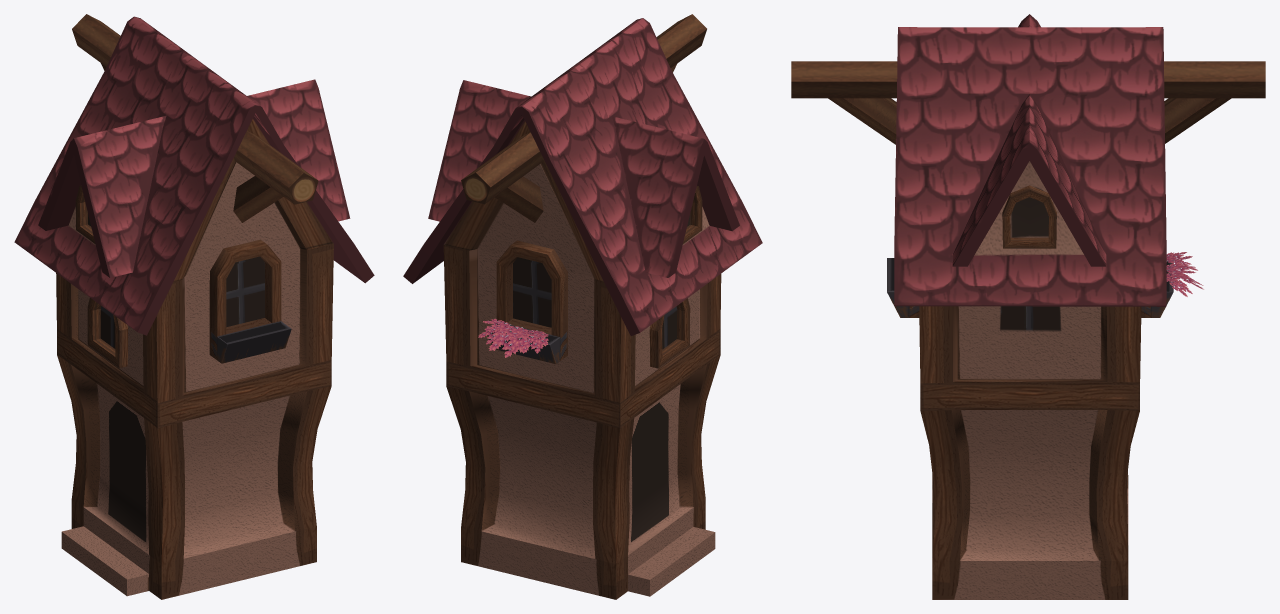
Rendered from House8.obj.
3 renders of one model, left to right at view 1: azimuth 30°, elevation 25°; view 2: azimuth 150°, elevation 25°; view 3: azimuth 270°, elevation 25°, orthographic. The views are drawn at different scales.
Visible parts, largest first — view 1: HouseMesh8; view 2: HouseMesh8; view 3: HouseMesh8.
Part boxes in pixels (x1=…): HouseMesh8: x1=14, y1=14, x2=374, y2=599; HouseMesh8: x1=403, y1=14, x2=762, y2=599; HouseMesh8: x1=791, y1=14, x2=1265, y2=599.
Size of the model in its own units: 27.2 by 52.39 by 42.36.
